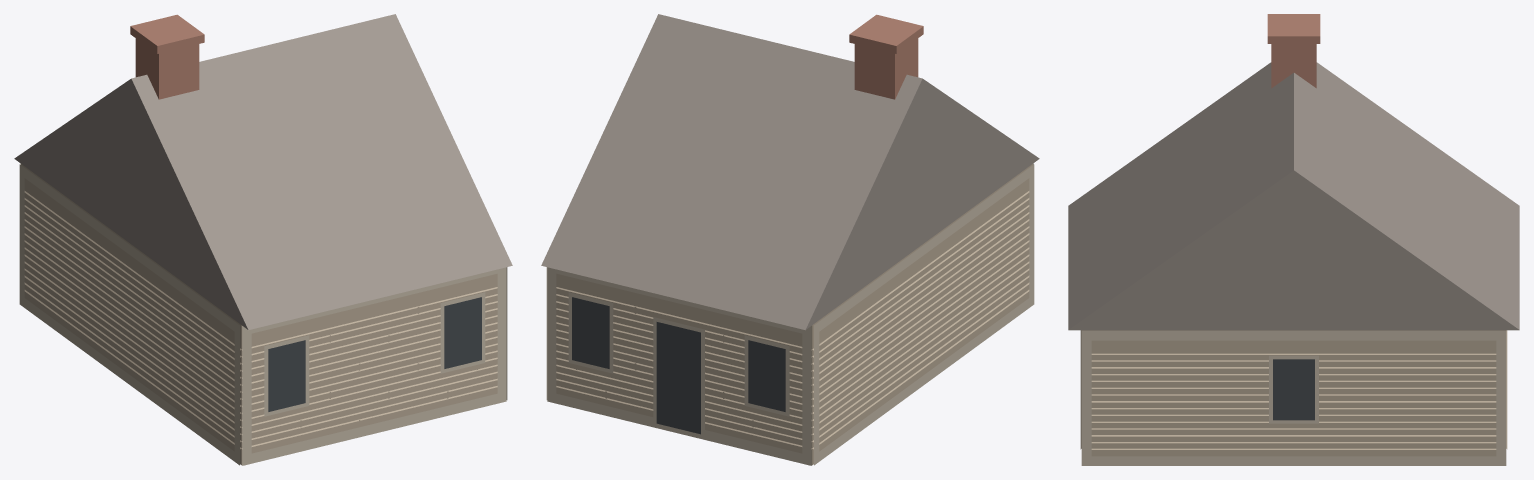
Rendered from wright_building_to_let_a__documented_1835.glb.
The picture shows the model from 3 angles, left to right: view 1: azimuth 30°, elevation 25°; view 2: azimuth 150°, elevation 25°; view 3: azimuth 270°, elevation 25°; orthographic projection. The views are drawn at different scales.
Parts seen in each view (by area): view 1: wright_building_to_let_a__documented_1835; view 2: wright_building_to_let_a__documented_1835; view 3: wright_building_to_let_a__documented_1835.
Boxes of the visible parts, x1,y1,x2,y2 form: wright_building_to_let_a__documented_1835: [14, 14, 512, 465]; wright_building_to_let_a__documented_1835: [541, 14, 1039, 465]; wright_building_to_let_a__documented_1835: [1068, 14, 1519, 465].
Bounding box in the file's own units: 5.57 × 6.85 × 8.43.
